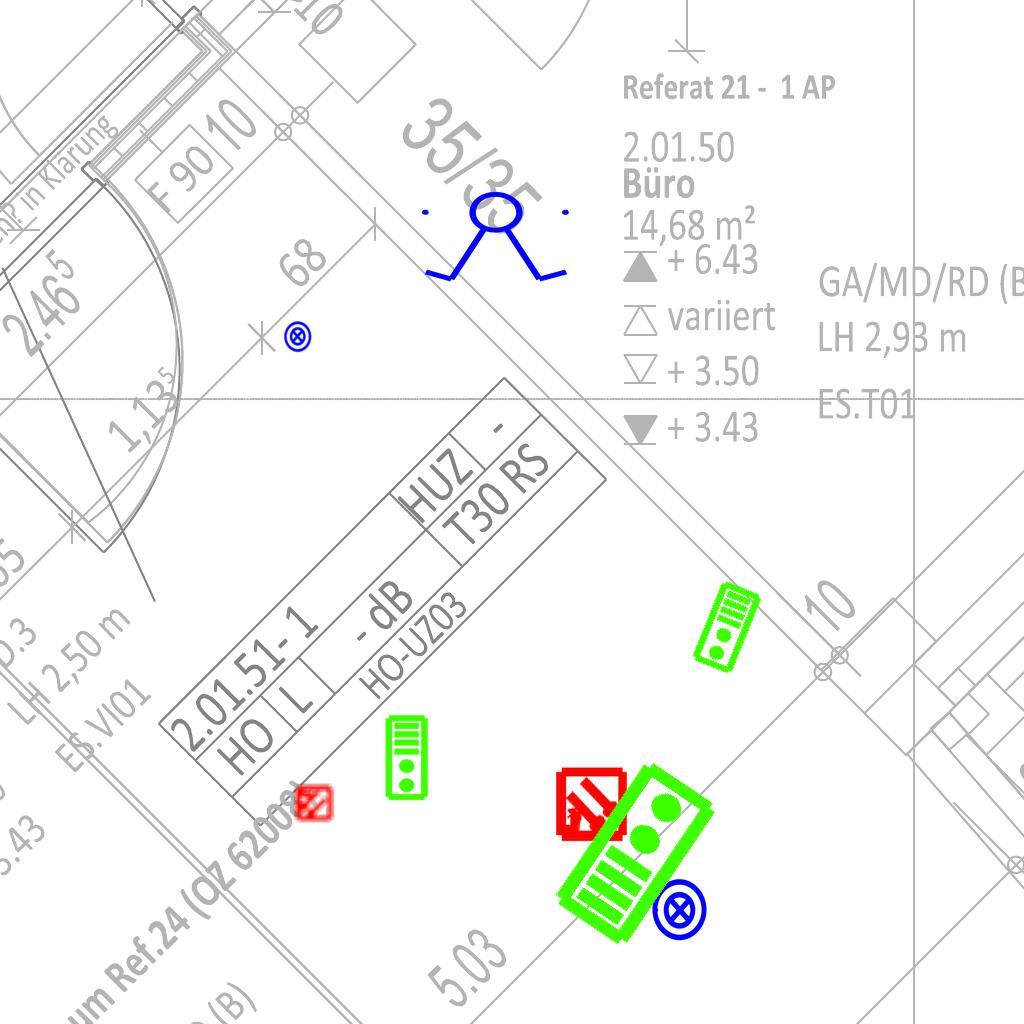Gegensprechanlage_mit_Video: (545, 752, 724, 952), (689, 578, 766, 678), (384, 714, 431, 802)
OT_Multisensormelder_(Kombination_RMO_WMD): (535, 750, 648, 863), (285, 775, 341, 831)
Serienschalter: (413, 190, 581, 286)
Taster_beleuchtet: (647, 877, 713, 943), (281, 320, 314, 353)
